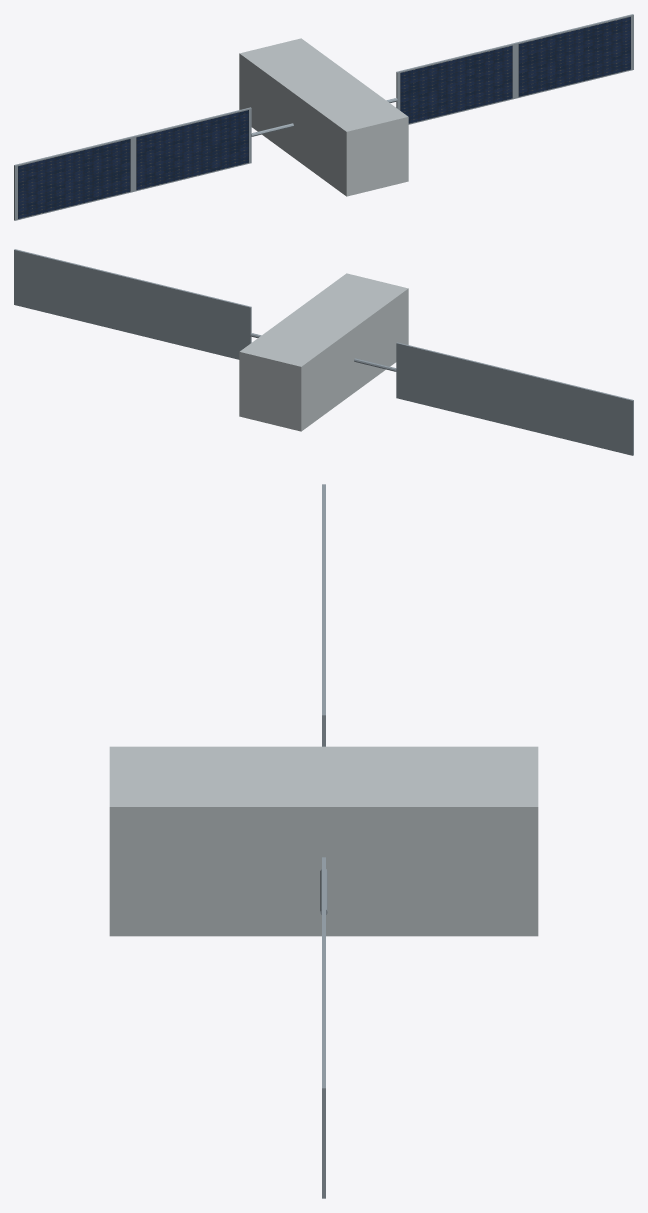
File: ref-xingwang-c-62971.glb
The picture shows the model from 3 angles, top to bottom: view 1: azimuth 30°, elevation 25°; view 2: azimuth 150°, elevation 25°; view 3: azimuth 270°, elevation 25°; orthographic projection. The views are drawn at different scales.
Parts seen in each view (by area): view 1: Photovoltaic laminates (×4), Spacecraft body, Array frame (×4); view 2: Array frame (×4), Spacecraft body; view 3: Spacecraft body.
Boxes of the visible parts, bbox=[...] form: Photovoltaic laminates (×4): bbox=[18, 17, 630, 218]; Spacecraft body: bbox=[239, 38, 408, 196]; Array frame (×4): bbox=[14, 14, 633, 220]; Array frame (×4): bbox=[14, 249, 633, 455]; Spacecraft body: bbox=[239, 273, 408, 431]; Spacecraft body: bbox=[109, 746, 538, 936].
Bounding box in the file's own units: 10 × 1 × 3.
Materials: 3 (1 with a texture image).
